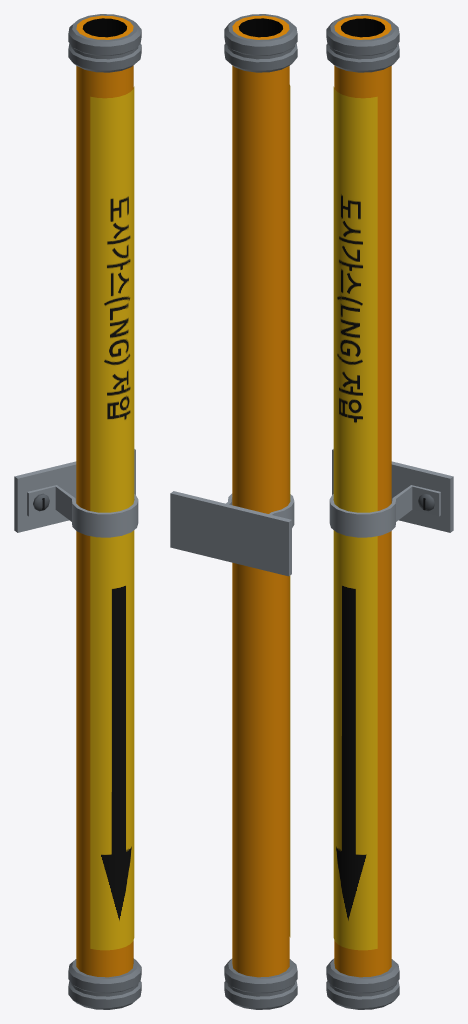
File: GasPipeDrop.obj
3 views of the same model, side by side, from view 1: azimuth 30°, elevation 25°; view 2: azimuth 150°, elevation 25°; view 3: azimuth 330°, elevation 25° (orthographic).
Parts seen in each view (by area): view 1: GasPipeDrop; view 2: GasPipeDrop; view 3: GasPipeDrop.
Part boxes in pixels (left/top/right/bottom): GasPipeDrop: left=14, top=14, right=141, bottom=1009; GasPipeDrop: left=170, top=14, right=297, bottom=1009; GasPipeDrop: left=326, top=14, right=453, bottom=1009.
Bounding box in the file's own units: 0.064 × 0.5 × 0.0466.
Materials: 7 (1 with a texture image).
